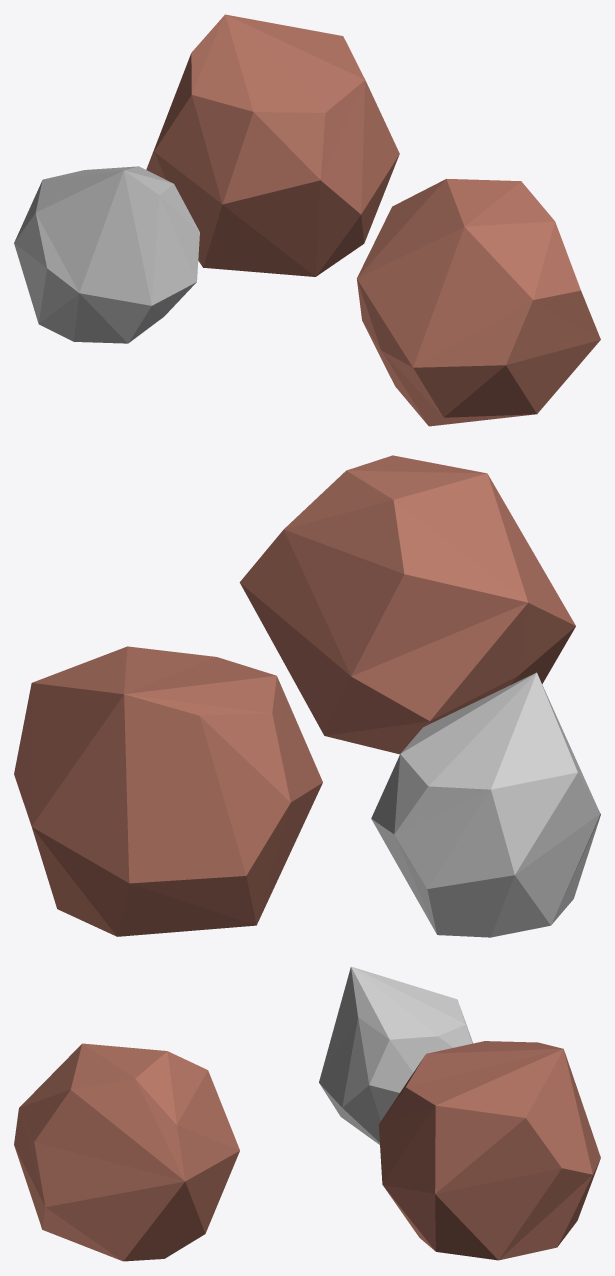
File: 9YaAwJFsHMj.glb
The picture shows the model from 3 angles, top to bottom: view 1: azimuth 30°, elevation 25°; view 2: azimuth 150°, elevation 25°; view 3: azimuth 270°, elevation 25°; orthographic projection. The views are drawn at different scales.
Parts seen in each view (by area): view 1: Sphere002, Sphere001; view 2: Sphere002, Sphere001; view 3: Sphere002, Sphere001.
Part boxes in pixels (<box>): Sphere002: <box>146,14,600,426</box>; Sphere001: <box>14,166,199,343</box>; Sphere002: <box>14,455,575,936</box>; Sphere001: <box>371,672,600,937</box>; Sphere002: <box>14,1041,600,1261</box>; Sphere001: <box>319,966,472,1144</box>.
Bounding box in the file's own units: 1.93 × 0.9999 × 2.74.
